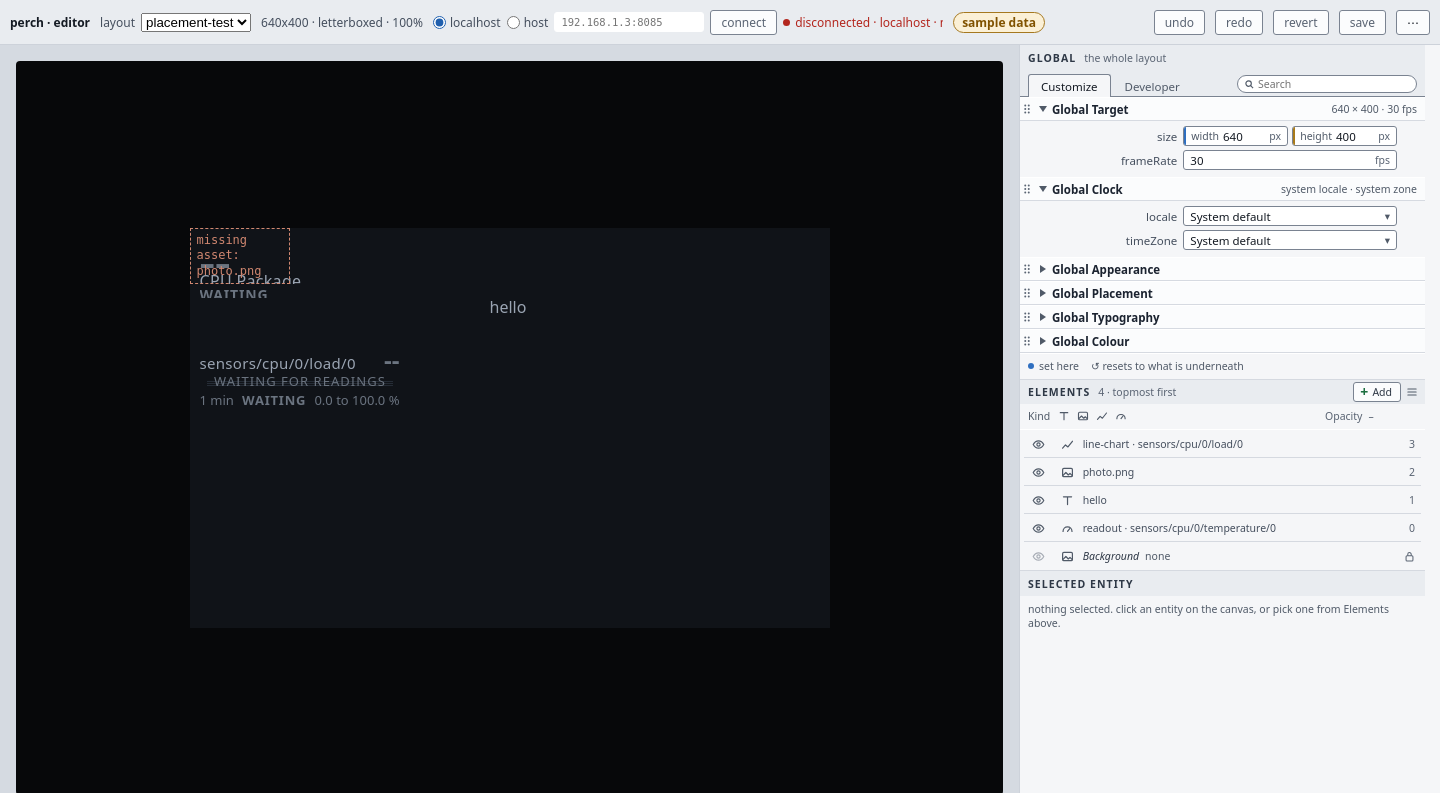
it: the resize anchor › shows the anchor point’s coordinates, and moves the box by them
Click the button "hello 1" at (1067, 500), box [1052, 486, 1421, 514]
(page scrolled)
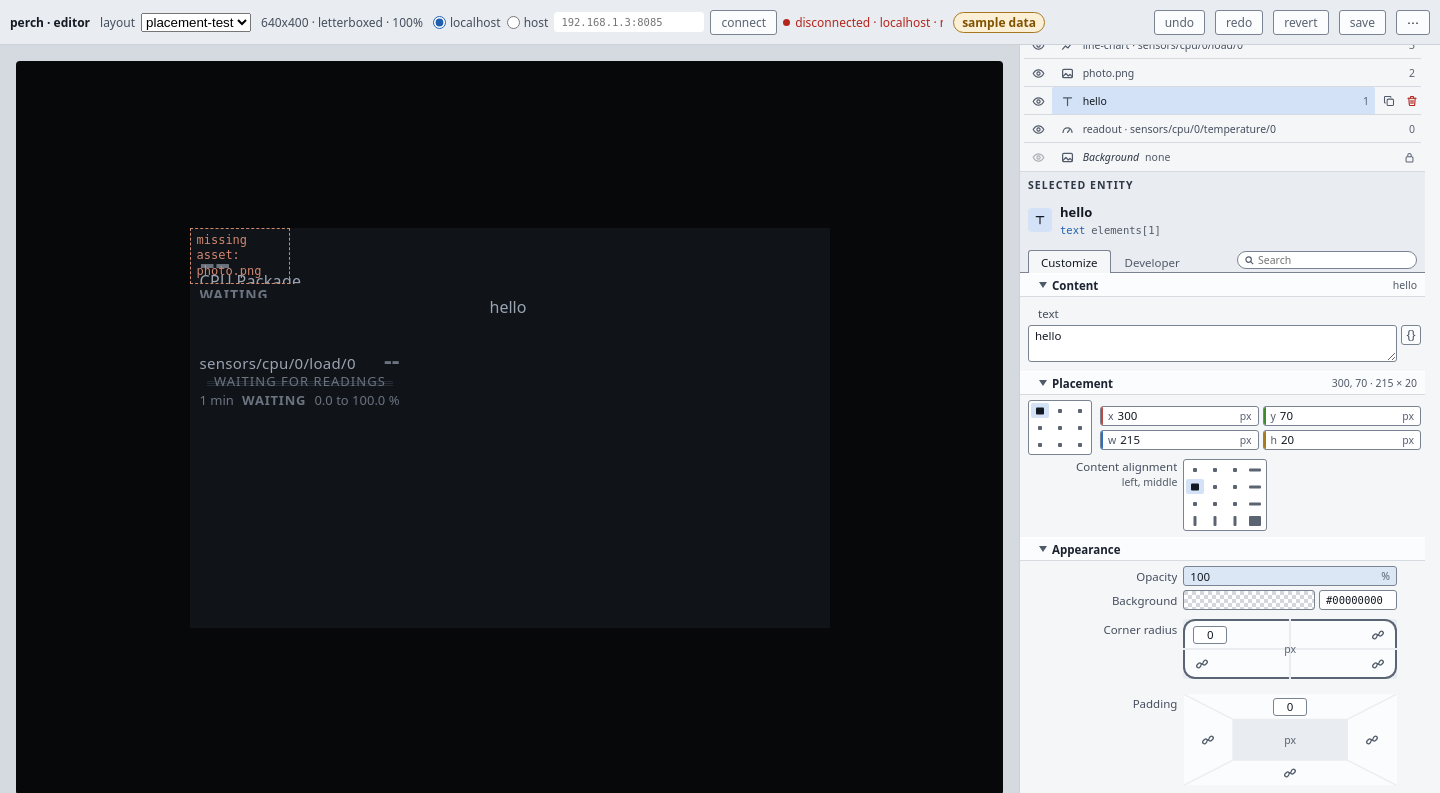
Click the 1st radio button named "middle centre" at (1060, 428), box [1051, 420, 1069, 435]
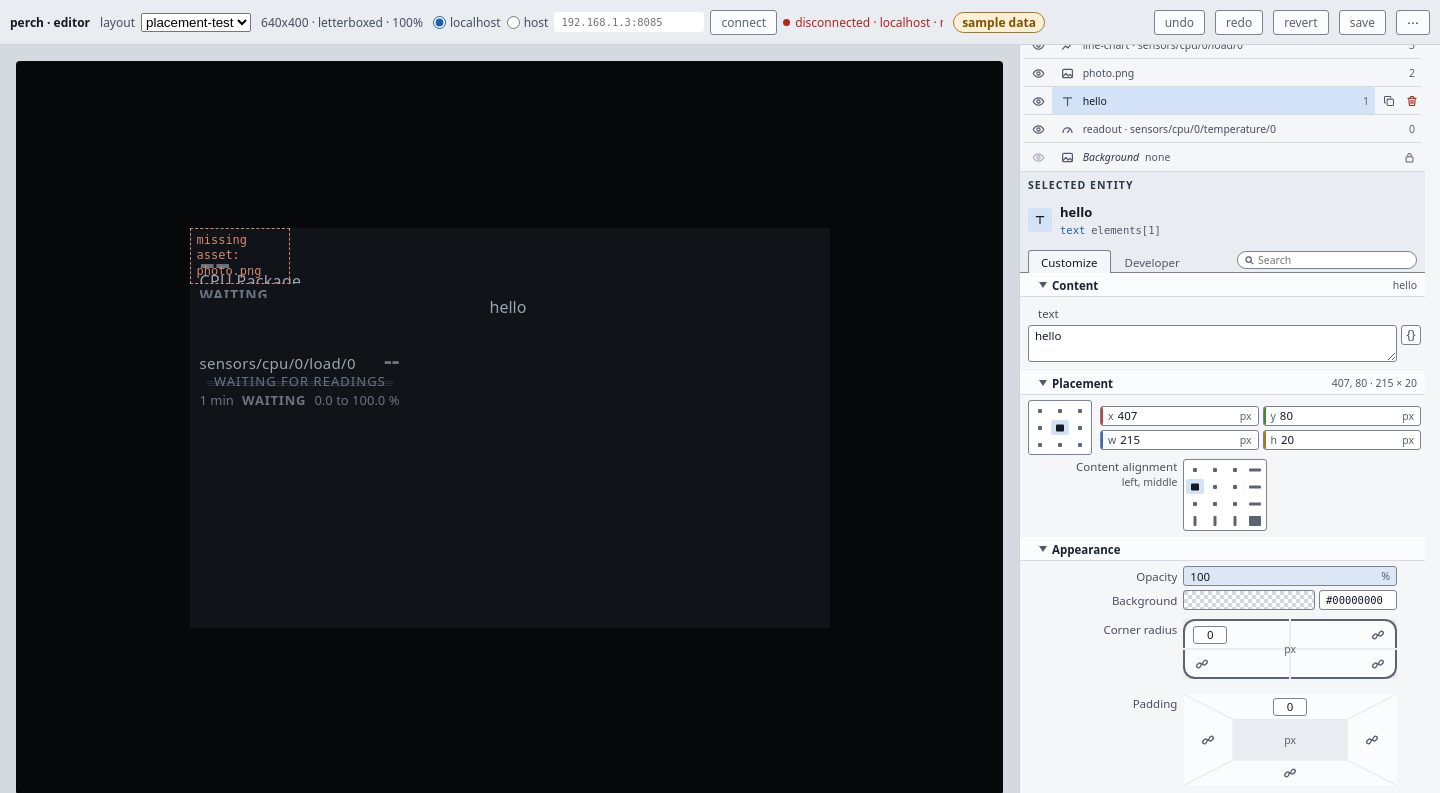
Now the number field labelled "x" holds "407"
Now the number field labelled "y" holds "80", box [1278, 407, 1402, 425]
Replace the text in the number field labelled "x" with "500" at (1178, 416), box [1116, 407, 1240, 425]
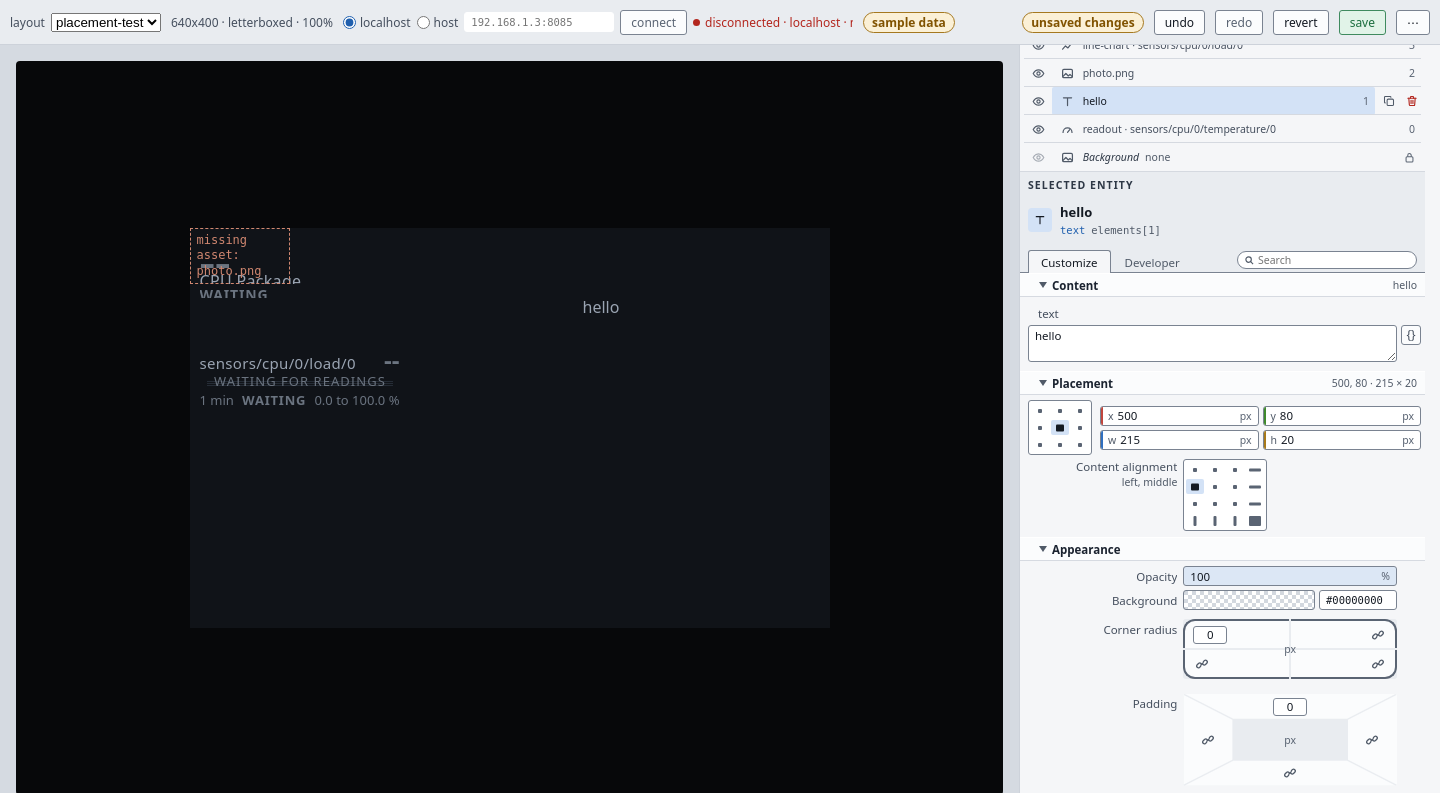
Click the 1st radio button named "top left" at (1040, 411), box [1031, 403, 1049, 418]
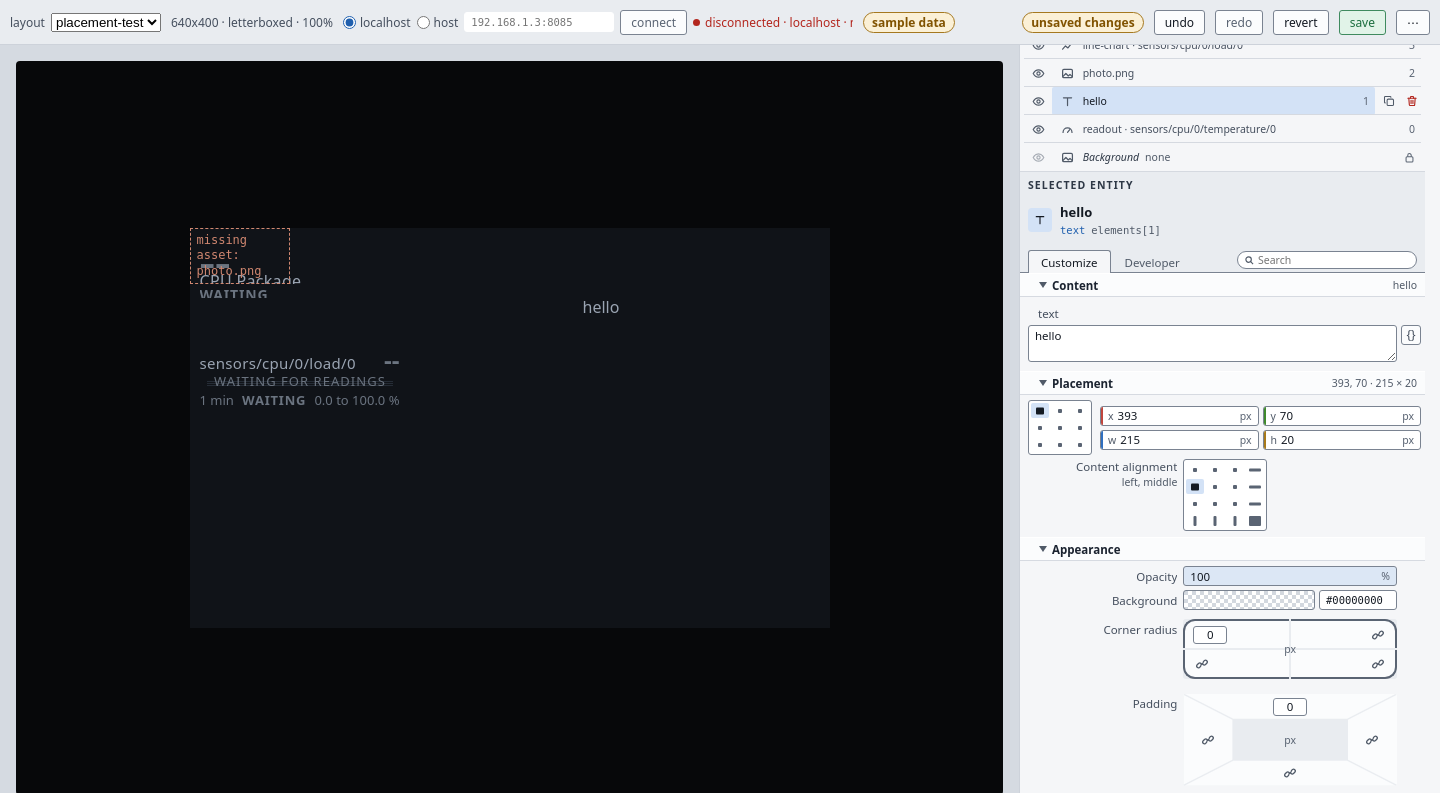
Now the number field labelled "x" holds "393", box [1116, 407, 1240, 425]
